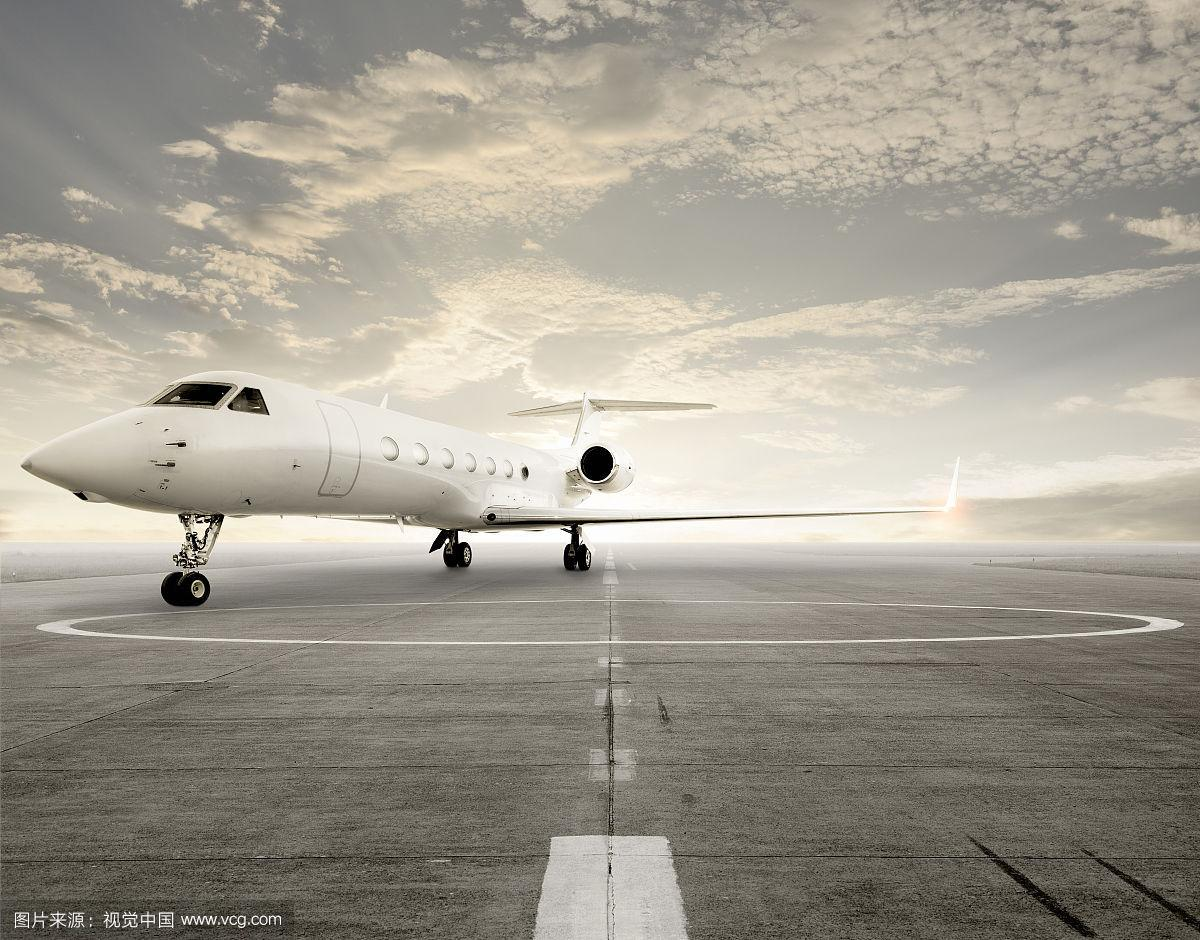airplane: (9, 361, 980, 610)
